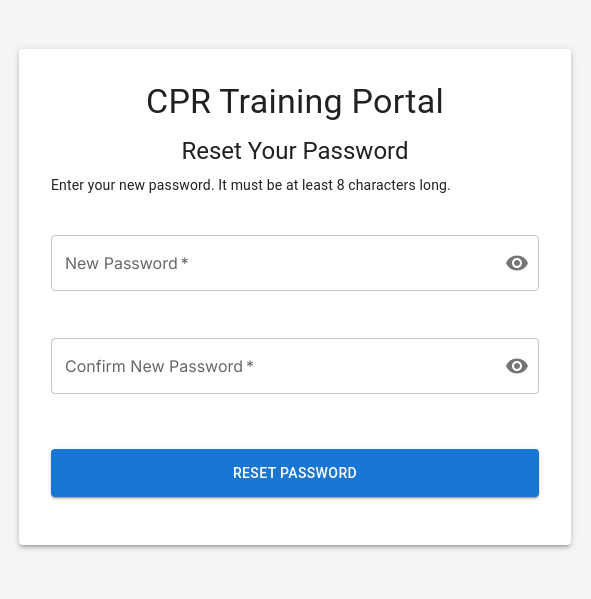
ResetPassword › explains an expired link without logging the new password or the token
In the password field labelled "New Password *": (270,263) left=51, top=235, right=489, bottom=291, type "N3w-Secret!"
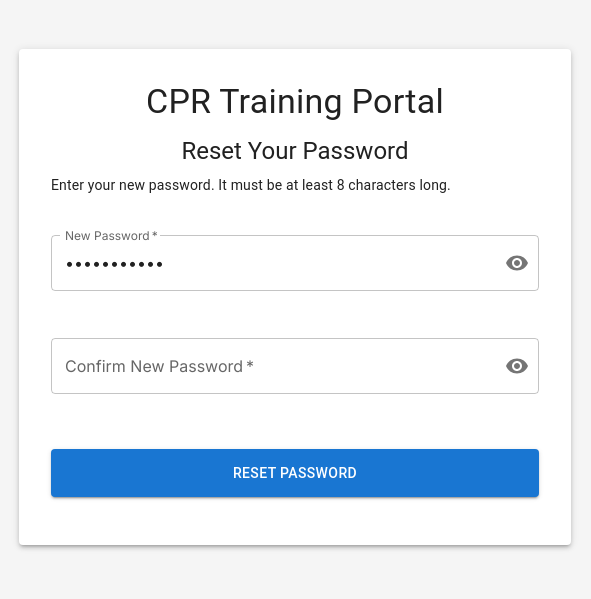
In the password field labelled "Confirm New Password *": (270,366) left=51, top=338, right=489, bottom=394, type "N3w-Secret!"
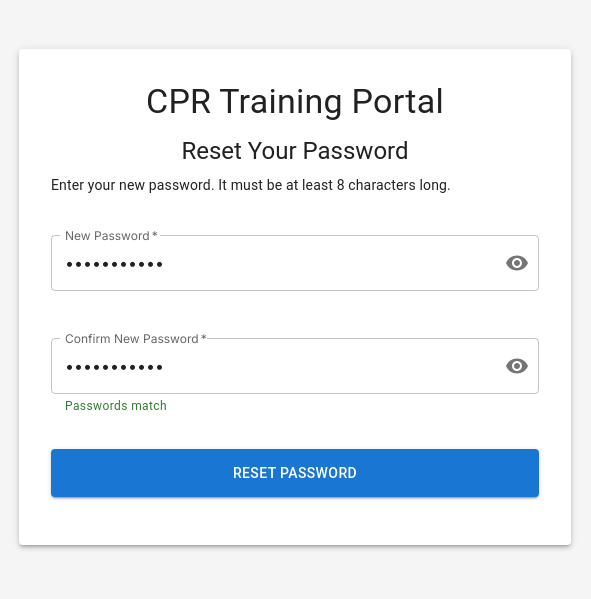
Click the button "Reset Password": (295,473) left=51, top=449, right=539, bottom=497
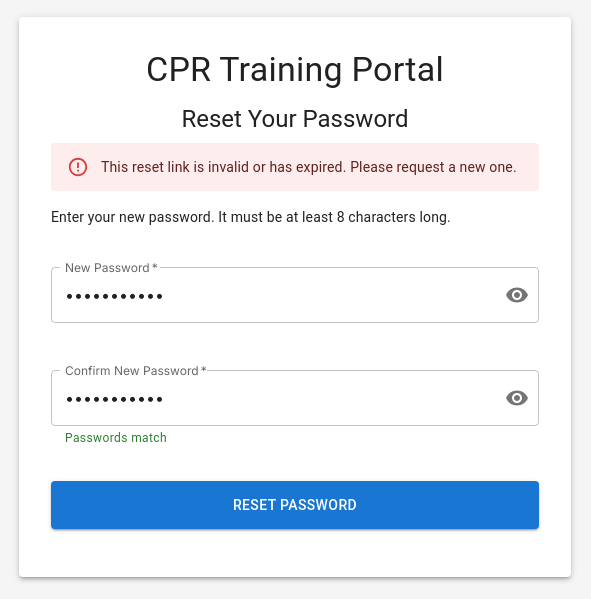
Expected: the text "reset link is invalid or has expired" is shown, left=101, top=159, right=517, bottom=175
